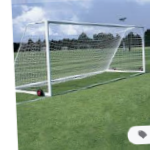goals: (14, 19, 150, 100)
